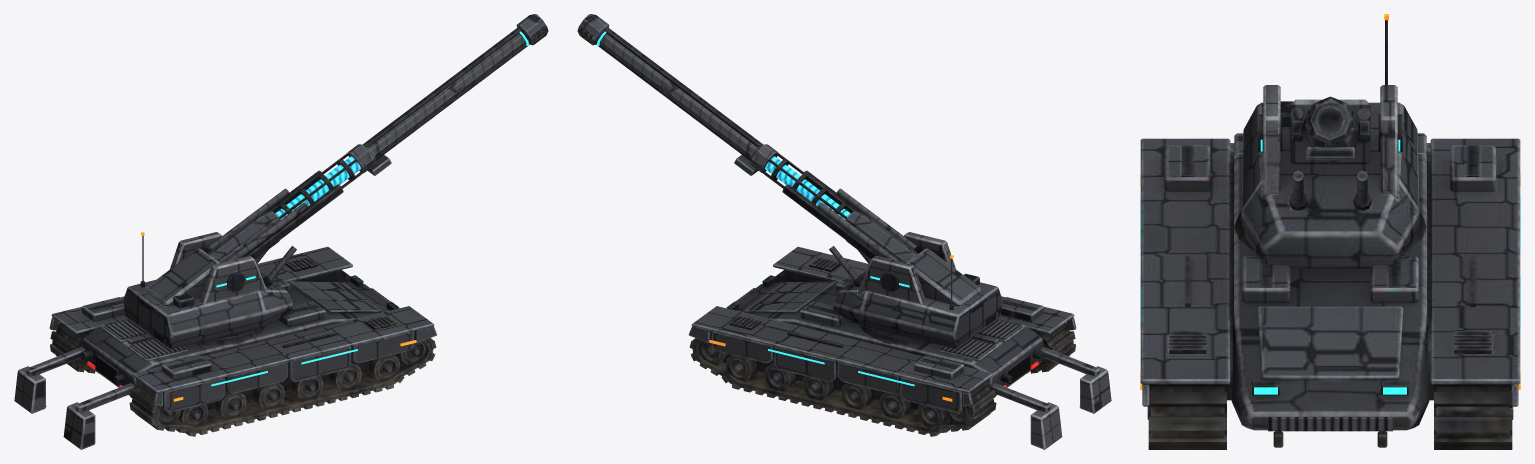
The model's file is longbow.glb.
3 renders of one model, left to right at view 1: azimuth 30°, elevation 25°; view 2: azimuth 150°, elevation 25°; view 3: azimuth 270°, elevation 25°, orthographic. The views are drawn at different scales.
Parts seen in each view (by area): view 1: Hull, Turret; view 2: Hull, Turret; view 3: Hull, Turret.
Boxes of the visible parts, x1,y1,x2,y2 form: Hull: (14,246,437,449); Turret: (123,14,548,348); Hull: (688,246,1111,449); Turret: (577,14,1002,348); Hull: (1140,133,1520,449); Turret: (1234,14,1426,268).
Size of the model in its own units: 12.85 by 7.19 by 4.75.
1 material, 1 textured.
